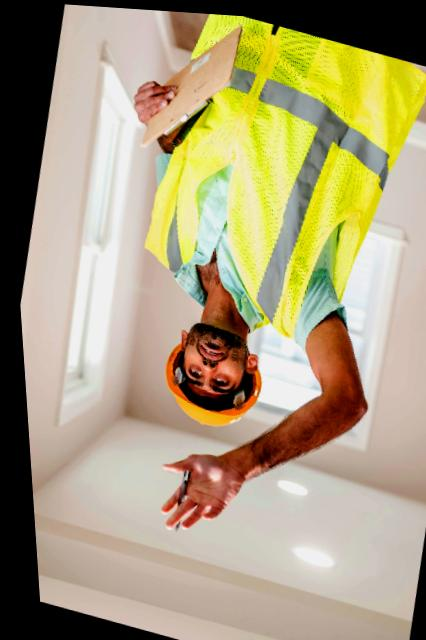helmet: (131, 358, 274, 439)
vest: (127, 7, 409, 350)
